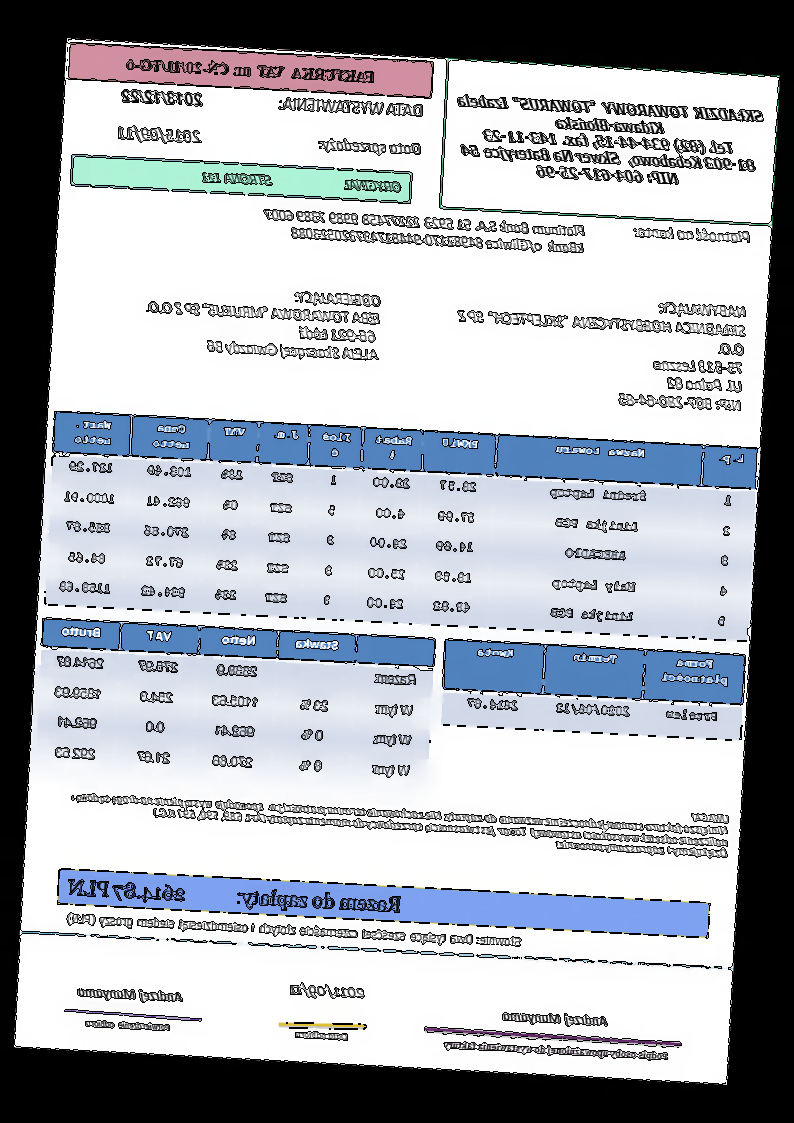Table: (43, 410, 760, 644), (33, 614, 438, 793), (439, 637, 747, 742)
TextBox: (64, 776, 732, 861), (450, 286, 750, 415), (449, 89, 767, 194), (142, 278, 384, 366), (65, 908, 524, 954), (261, 205, 589, 258), (66, 873, 404, 919), (125, 53, 380, 87), (199, 165, 405, 196), (442, 1037, 672, 1063), (279, 91, 428, 122), (316, 132, 425, 160), (633, 221, 753, 246), (497, 1007, 613, 1030), (76, 984, 185, 1007), (115, 121, 204, 148), (119, 85, 206, 110), (288, 979, 369, 1002), (85, 1016, 174, 1034), (292, 1026, 352, 1045)
